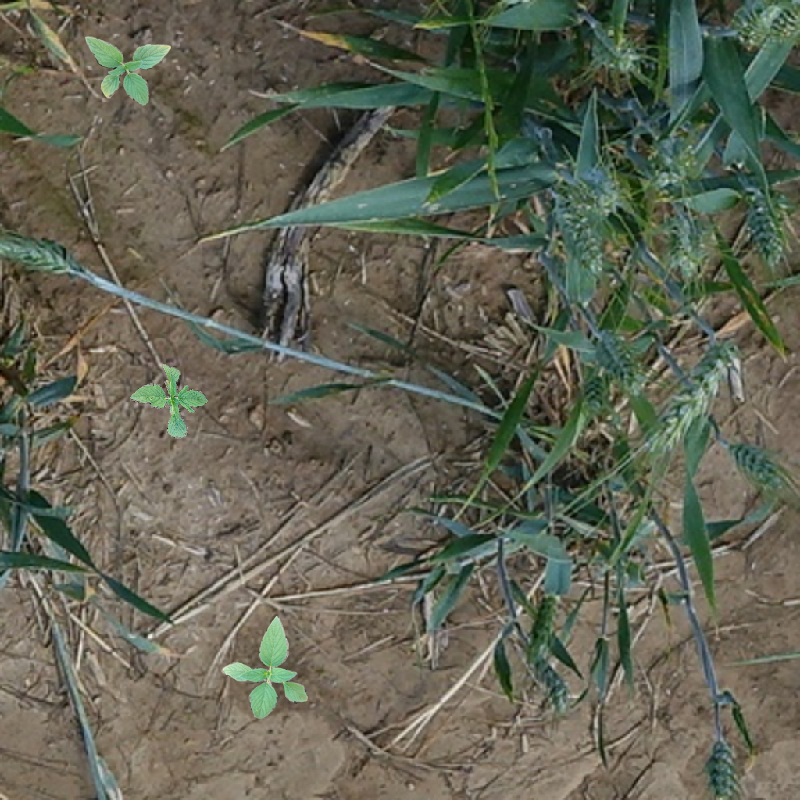spikelet: (657, 339, 733, 445), (721, 1, 800, 53), (585, 22, 646, 80), (748, 192, 795, 267), (1, 234, 76, 278), (557, 208, 603, 277), (668, 206, 712, 278), (594, 334, 642, 394), (643, 139, 689, 190), (703, 743, 743, 800), (525, 588, 558, 653), (729, 442, 778, 485), (577, 173, 628, 213), (530, 653, 568, 705), (585, 375, 606, 419)
weed: (123, 353, 218, 451), (221, 616, 309, 719), (85, 36, 171, 106)
